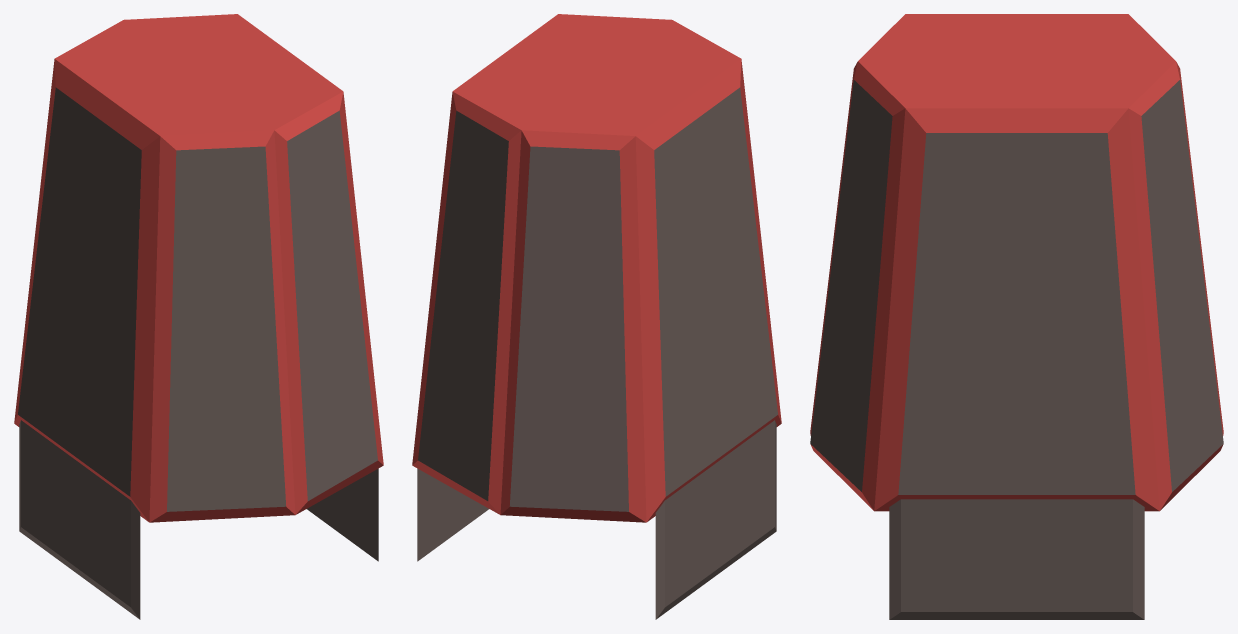
File: WoodTorso.fbx
The picture shows the model from 3 angles, left to right: view 1: azimuth 30°, elevation 25°; view 2: azimuth 150°, elevation 25°; view 3: azimuth 270°, elevation 25°; orthographic projection. The views are drawn at different scales.
Visible parts, largest first — view 1: Torso Armour Wood; view 2: Torso Armour Wood; view 3: Torso Armour Wood.
Boxes of the visible parts, bbox=[...] form: Torso Armour Wood: bbox=[14, 14, 383, 619]; Torso Armour Wood: bbox=[412, 14, 781, 619]; Torso Armour Wood: bbox=[810, 14, 1223, 619].
Bounding box in the file's own units: 213 × 385 × 290.
